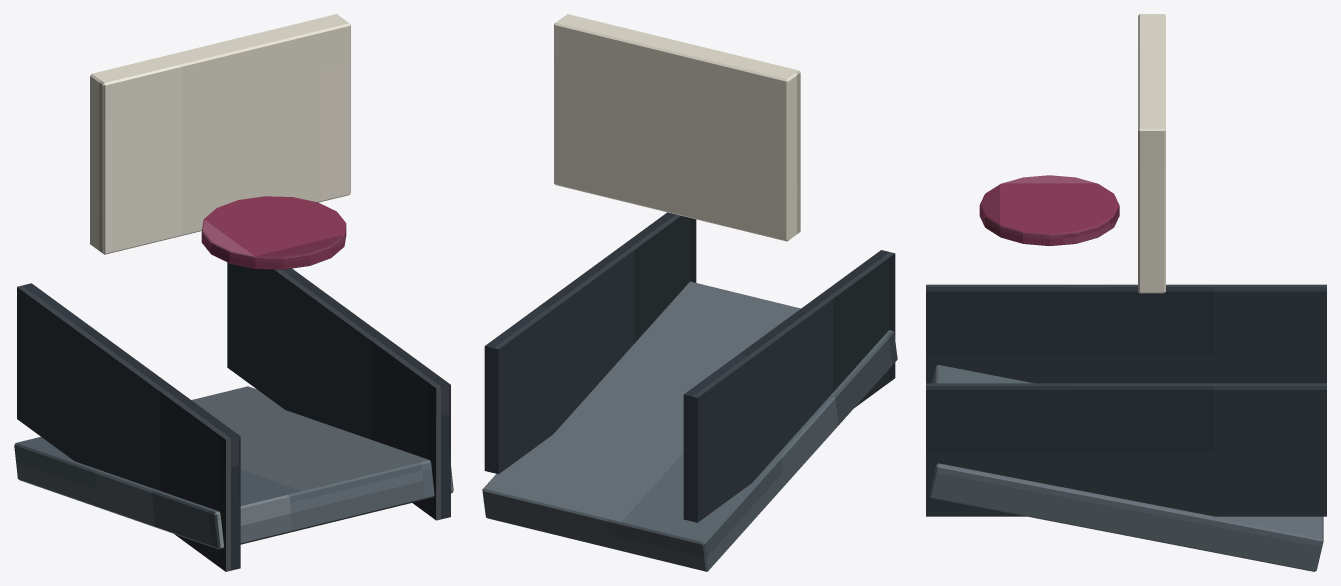
File: arcade_basketball_hoop.glb
3 views of the same model, side by side, from view 1: azimuth 30°, elevation 25°; view 2: azimuth 150°, elevation 25°; view 3: azimuth 270°, elevation 25° (orthographic). The views are drawn at different scales.
Parts seen in each view (by area): view 1: Backboard, RampRail_-0.5, BallRamp, RampRail_0.5, Hoop; view 2: BallRamp, Backboard, RampRail_-0.5, RampRail_0.5; view 3: RampRail_0.5, RampRail_-0.5, BallRamp, Hoop, Backboard.
Part boxes in pixels (box(x1,y1,x2,y2)): Backboard: box(90, 14, 350, 254); RampRail_-0.5: box(17, 283, 240, 571); BallRamp: box(14, 386, 453, 549); RampRail_0.5: box(227, 262, 450, 520); Hoop: box(201, 196, 346, 269); BallRamp: box(482, 281, 897, 571); Backboard: box(554, 14, 800, 241); RampRail_-0.5: box(683, 250, 895, 522); RampRail_0.5: box(484, 212, 696, 474); RampRail_0.5: box(926, 383, 1326, 516); RampRail_-0.5: box(926, 284, 1326, 383); BallRamp: box(929, 365, 1323, 571); Hoop: box(979, 175, 1119, 245); Backboard: box(1138, 14, 1165, 293).
Size of the model in its own units: 1.18 by 2.11 by 1.72.
1 material, 1 textured.
